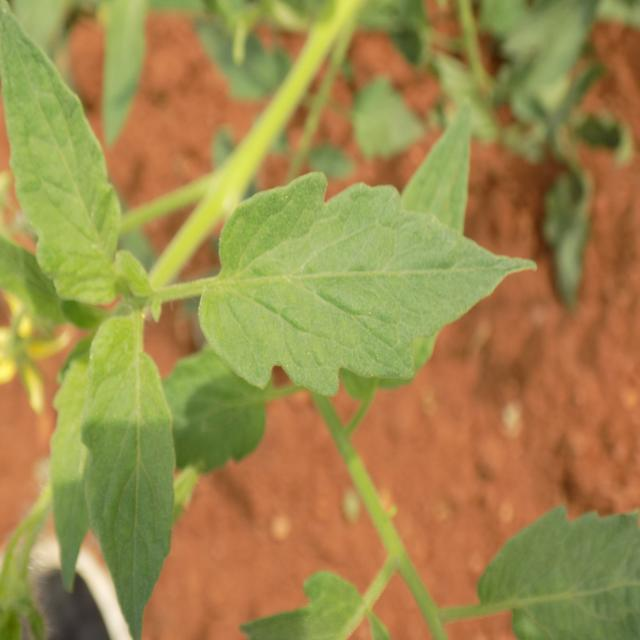tomato_healthy: (201, 170, 538, 396), (0, 3, 122, 306), (88, 344, 183, 640)
